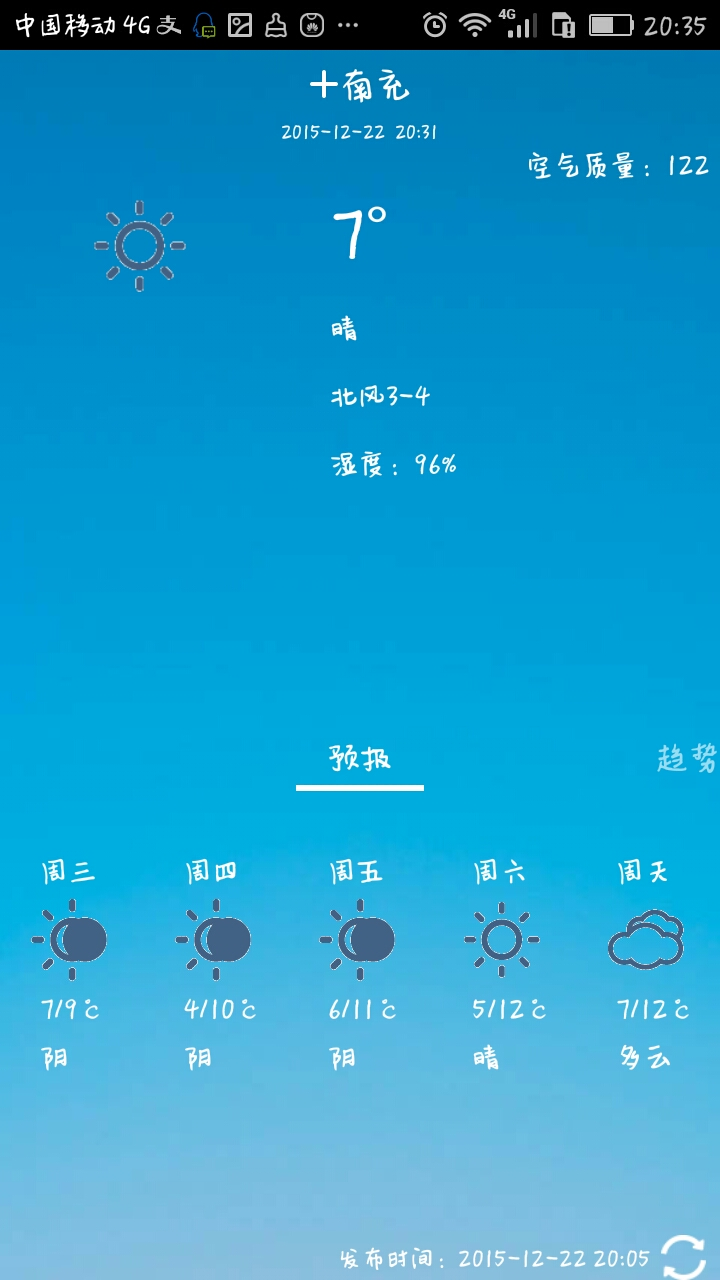textview: (289, 174, 497, 517)
